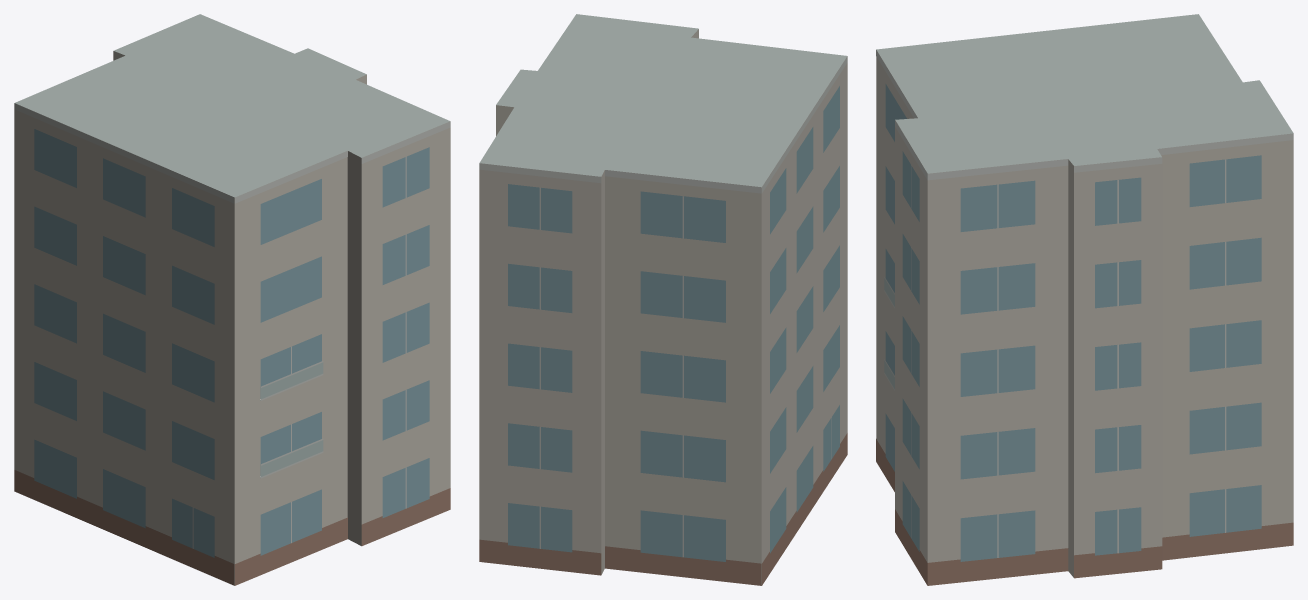
Rendered from survey-upis-32717056.glb.
The picture shows the model from 3 angles, left to right: view 1: azimuth 30°, elevation 25°; view 2: azimuth 150°, elevation 25°; view 3: azimuth 270°, elevation 25°; orthographic projection. The views are drawn at different scales.
Visible parts, largest first — view 1: survey-upis-32717056.tmp; view 2: survey-upis-32717056.tmp; view 3: survey-upis-32717056.tmp.
Boxes of the visible parts, x1,y1,x2,y2 form: survey-upis-32717056.tmp: [14, 14, 450, 585]; survey-upis-32717056.tmp: [479, 14, 847, 585]; survey-upis-32717056.tmp: [876, 14, 1293, 585].
Size of the model in its own units: 12.6 by 15.15 by 13.92.
